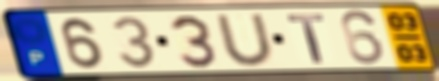3: (167, 12, 221, 70), (107, 15, 159, 70)
6: (340, 8, 387, 67), (57, 15, 106, 71)
T: (284, 12, 327, 65)
U: (212, 12, 279, 68)
